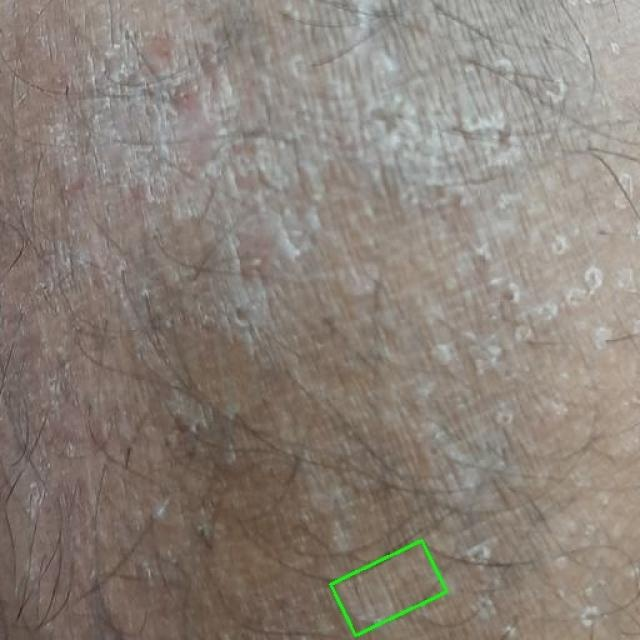Contact Dermatitis: (331, 541, 447, 636)
